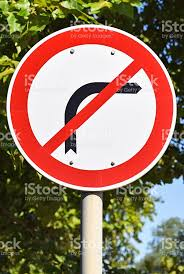No_right_turn: (6, 24, 176, 191)
